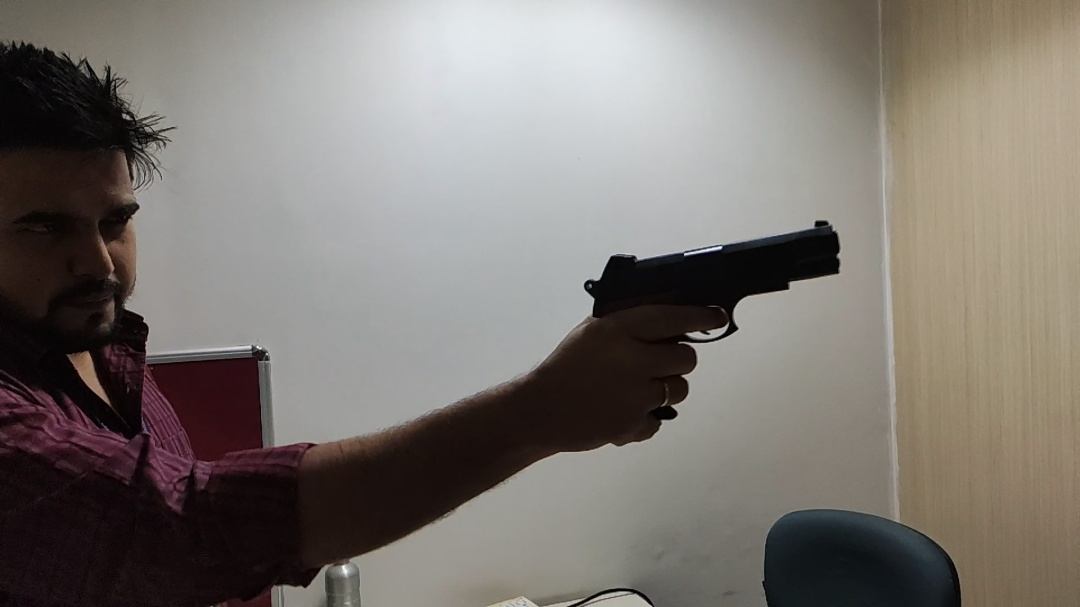gun: (582, 219, 846, 422)
